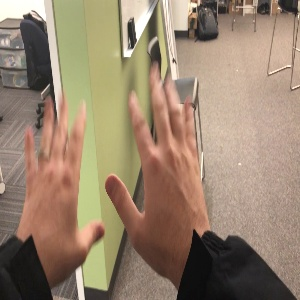hand: (105, 64, 212, 262), (24, 94, 103, 262)
